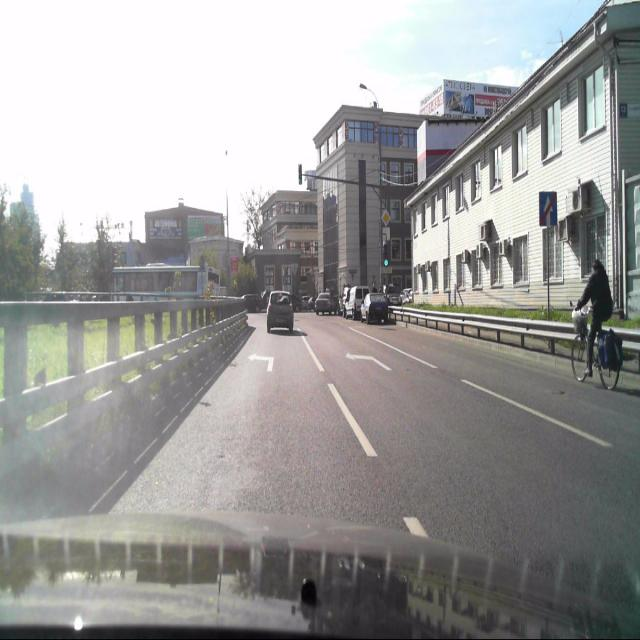road sign: (538, 191, 558, 228)
